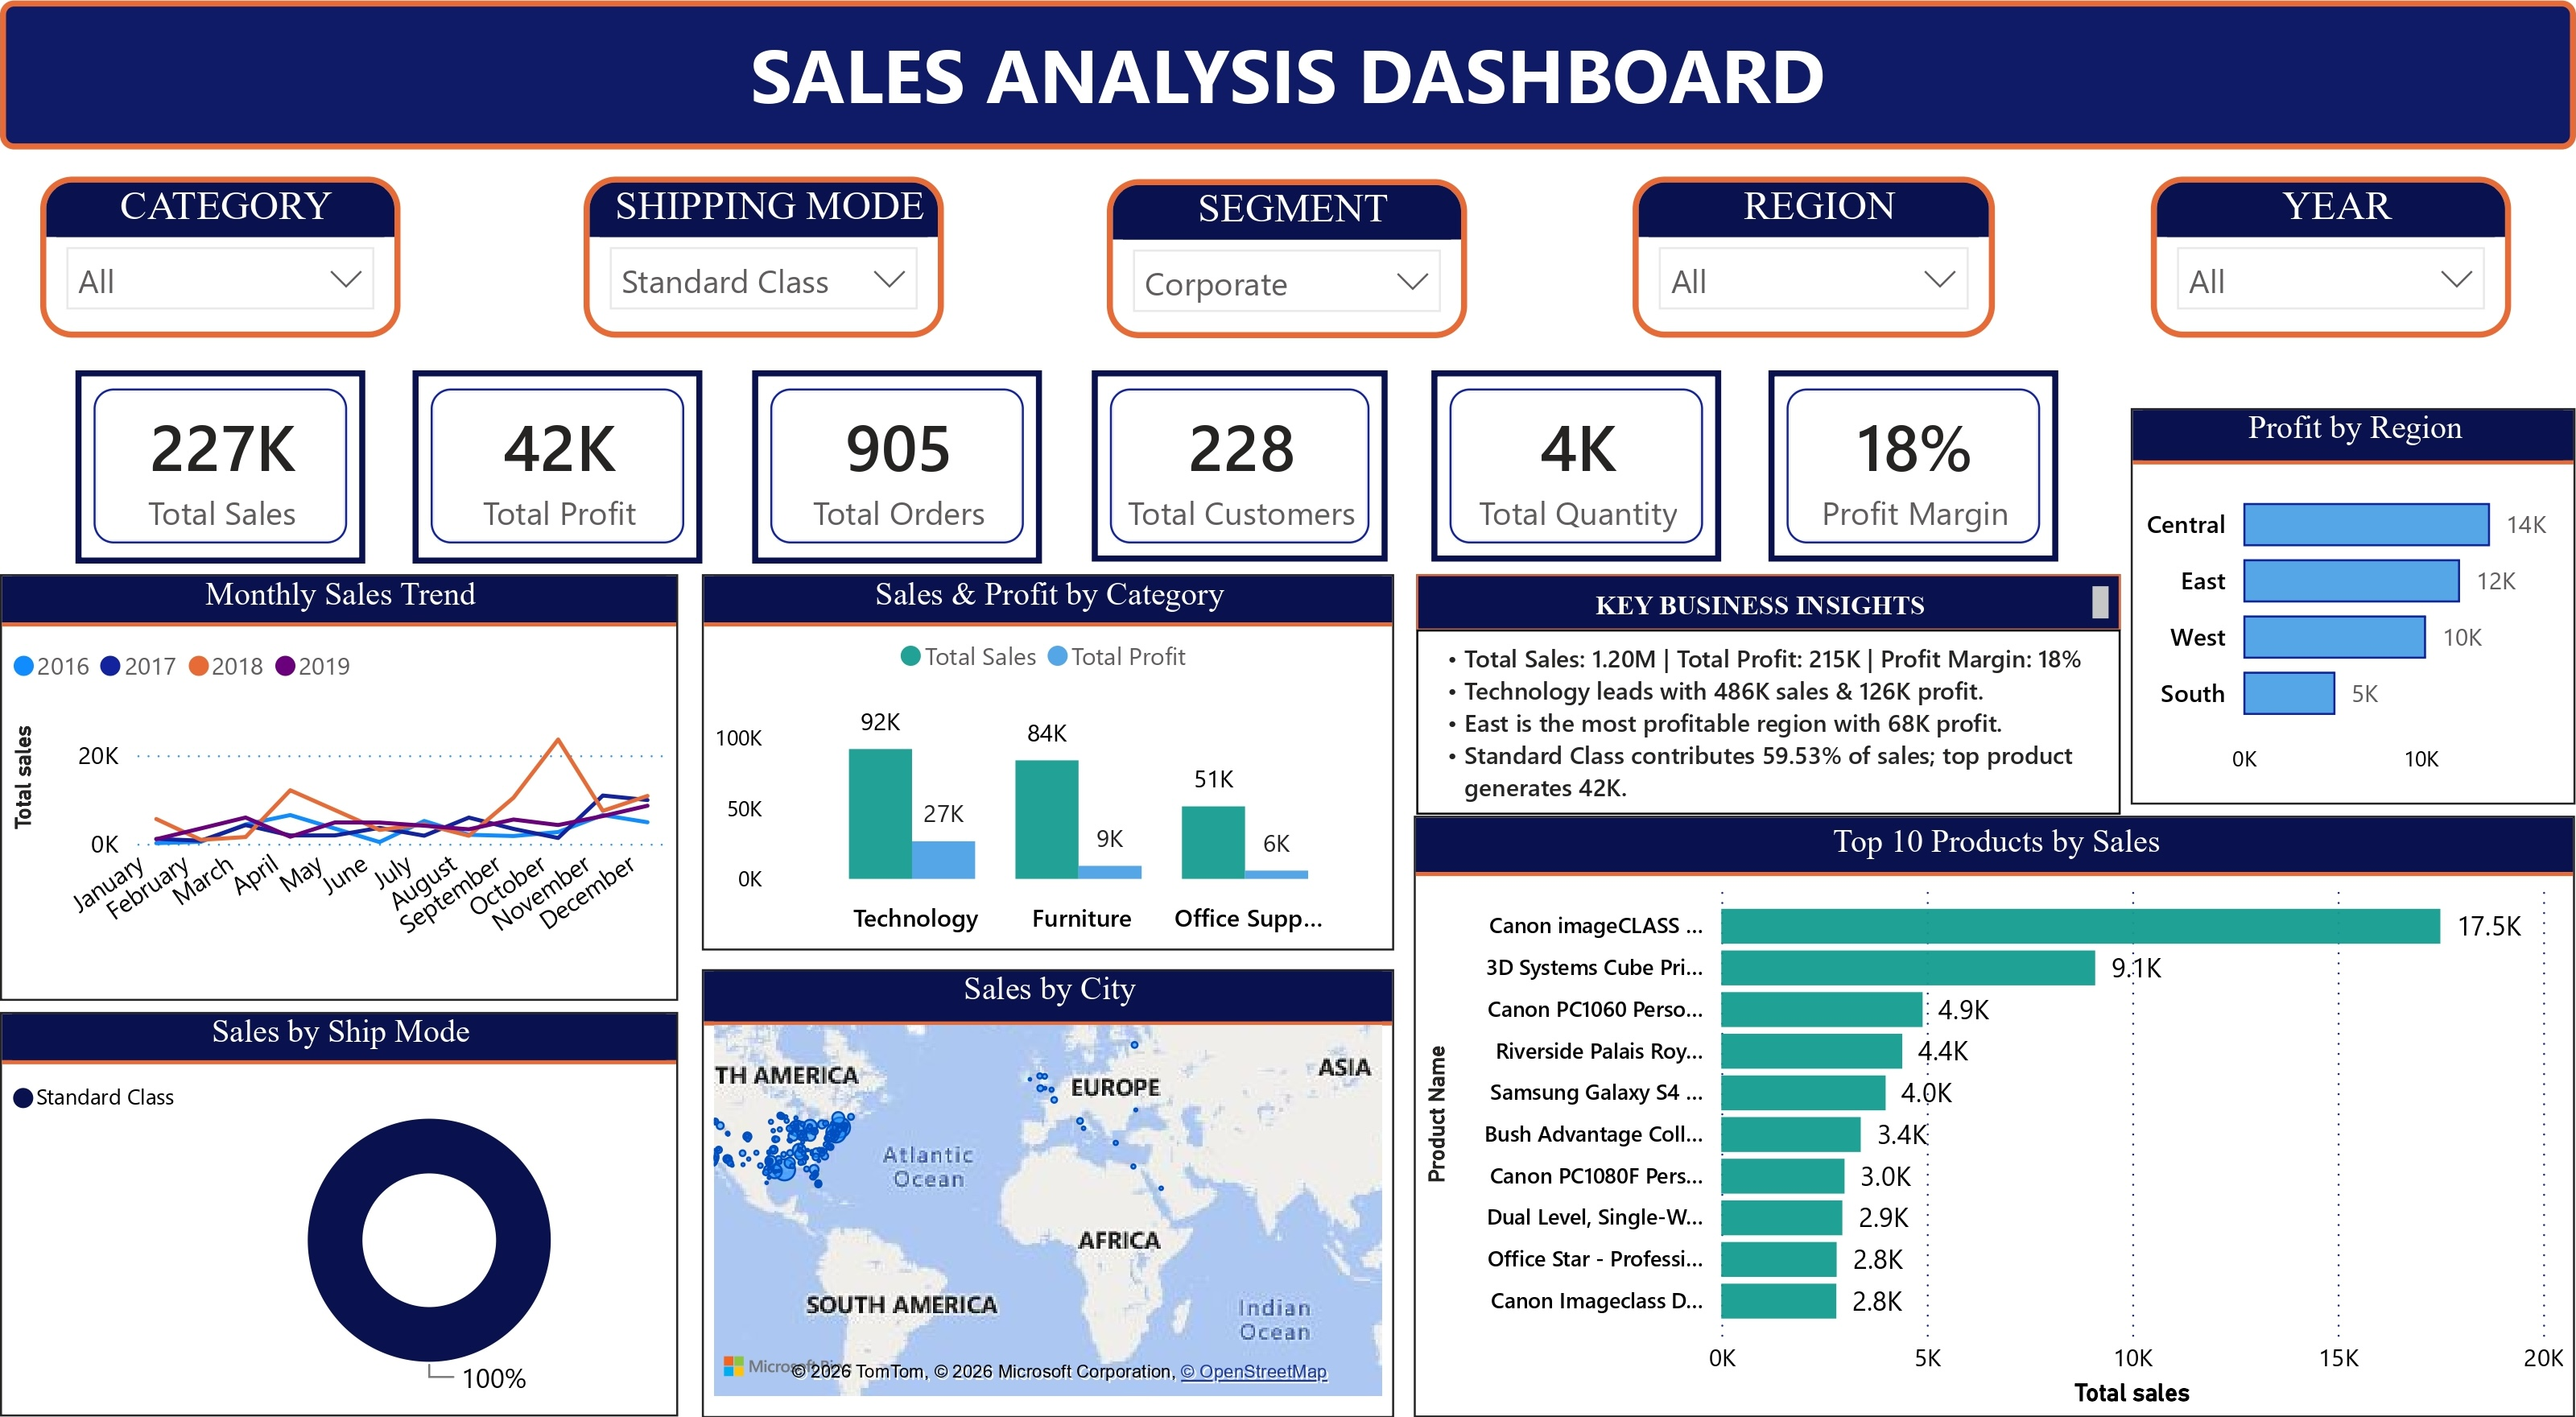

What the dashboard file says about the page in this screenshot:
{"tool":"powerbi","page":{"name":"sales analysis dashboard","canvas":[1280,720],"ordinal":0},"visuals":[{"type":"textbox","box":[0,16.2,1280,73.8],"z":0},{"type":"slicer","title":"YEAR","fields":{"Values":["Sales.order year"]},"box":[1068.9,103.8,179,80],"z":1000},{"type":"slicer","title":"REGION","fields":{"Values":["Sales.Region"]},"box":[810.7,103.8,179.8,80],"z":2000},{"type":"slicer","title":"CATEGORY","fields":{"Values":["Sales.Category"]},"box":[20.5,103.8,179,80],"z":3000},{"type":"slicer","title":"SHIPPING MODE","fields":{"Values":["Sales.Ship Mode"]},"box":[289.5,103.8,179,80],"z":4000},{"type":"slicer","title":"SEGMENT","fields":{"Values":["Sales.Segment"]},"box":[550.1,105,179,79],"z":5000},{"type":"cardVisual","fields":{"Data":["Sales.Total Sales"]},"box":[37.4,200.3,144.4,95.8],"z":6000},{"type":"cardVisual","fields":{"Data":["Sales.Total Quantity"]},"box":[711.8,200.3,144,95],"z":7000},{"type":"cardVisual","fields":{"Data":["Sales.total profit"]},"box":[205.1,200.3,144,95.8],"z":8000},{"type":"cardVisual","fields":{"Data":["Sales.Total Orders"]},"box":[374,200.3,144,95.8],"z":9000},{"type":"cardVisual","fields":{"Data":["Sales.Total Customers"]},"box":[542,200.3,147,95],"z":10000},{"type":"cardVisual","fields":{"Data":["Sales.Profit Margin %"]},"box":[878.3,200.3,144,95],"z":11000},{"type":"lineChart","title":"Monthly Sales Trend","fields":{"Y":["Sales.Total Sales"],"Category":["Sales.order Month"],"Series":["Sales.order year"]},"box":[0,301.6,336.6,212.3],"z":12000},{"type":"clusteredColumnChart","title":"Sales & Profit by Category","fields":{"Category":["Sales.Category"],"Y":["Sales.Total Sales","Sales.total profit"]},"box":[348.7,301.6,343.8,187],"z":13000},{"type":"clusteredBarChart","title":"Profit by Region","fields":{"Category":["Sales.Region"],"Y":["Sales.total profit"]},"box":[1058.6,218.6,221.4,197.1],"z":14000},{"type":"donutChart","title":"Sales by Ship Mode","fields":{"Category":["Sales.Ship Mode"],"Y":["Sales.Ship Mode Sales"]},"box":[0,518.8,336.6,201.5],"z":15000},{"type":"clusteredBarChart","title":"Top 10 Products by Sales","fields":{"Category":["Sales.Product Name"],"Y":["Sales.Total Sales"]},"box":[702.9,421.4,577.1,298.6],"z":16000},{"type":"map","title":"Sales by City","fields":{"Category":["Sales.City"],"Size":["Sales.Total Sales"]},"box":[348.7,497.1,343.8,223.2],"z":17000},{"type":"textbox","box":[703.4,301.6,349.9,28],"z":18000},{"type":"textbox","box":[703.4,329.4,349.9,91.7],"z":19000}]}

Visuals, with their boxes in screenshot pixels (x1, y1, x2, y2), scaled from the page's 1280x720 canvas onto the 2576x1417 screenshot:
textbox: select_region(0, 32, 2575, 177)
"YEAR" slicer: select_region(2151, 204, 2512, 361)
"REGION" slicer: select_region(1632, 204, 1993, 361)
"CATEGORY" slicer: select_region(41, 204, 402, 361)
"SHIPPING MODE" slicer: select_region(583, 204, 943, 361)
"SEGMENT" slicer: select_region(1107, 207, 1468, 362)
cardVisual - Sales.Total Sales: select_region(76, 395, 365, 583)
cardVisual - Sales.Total Quantity: select_region(1433, 395, 1723, 581)
cardVisual - Sales.total profit: select_region(413, 395, 703, 583)
cardVisual - Sales.Total Orders: select_region(753, 395, 1042, 583)
cardVisual - Sales.Total Customers: select_region(1091, 395, 1386, 581)
cardVisual - Sales.Profit Margin %: select_region(1768, 395, 2058, 581)
"Monthly Sales Trend" lineChart: select_region(0, 593, 678, 1011)
"Sales & Profit by Category" clusteredColumnChart: select_region(702, 593, 1393, 961)
"Profit by Region" clusteredBarChart: select_region(2130, 430, 2575, 818)
"Sales by Ship Mode" donutChart: select_region(0, 1021, 678, 1416)
"Top 10 Products by Sales" clusteredBarChart: select_region(1414, 829, 2575, 1416)
"Sales by City" map: select_region(702, 978, 1393, 1416)
textbox: select_region(1415, 593, 2120, 649)
textbox: select_region(1415, 648, 2120, 828)
